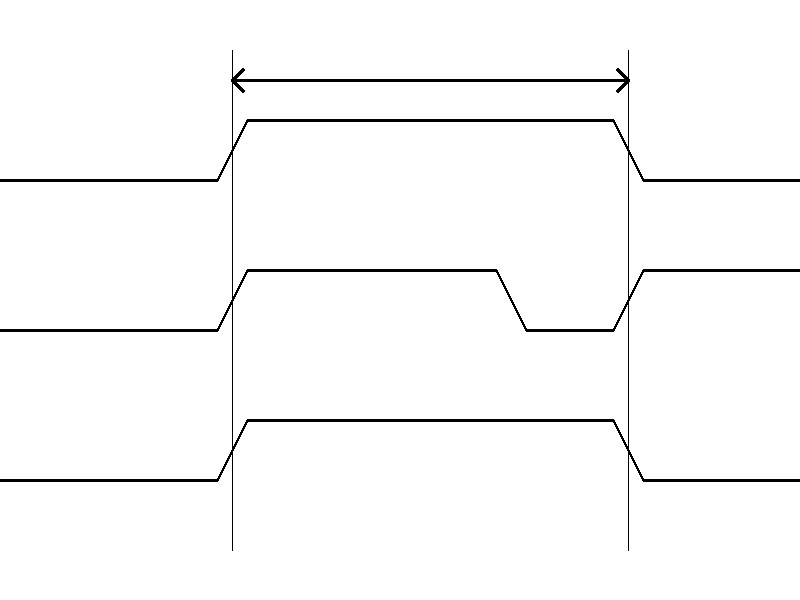double_arrow: (232, 65, 628, 95)
